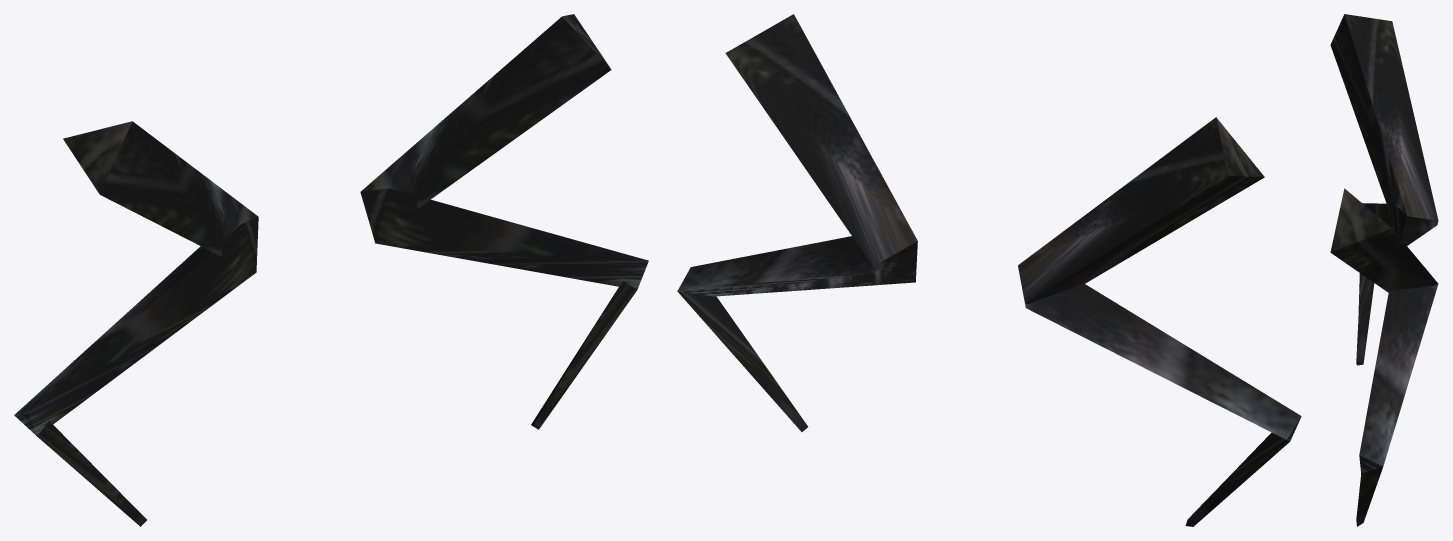
The model's file is isopod_legs.dae.
3 renders of one model, left to right at view 1: azimuth 30°, elevation 25°; view 2: azimuth 150°, elevation 25°; view 3: azimuth 270°, elevation 25°, orthographic. The views are drawn at different scales.
Parts seen in each view (by area): view 1: leg_end_L; view 2: leg_end_L; view 3: leg_end_L.
Boxes of the visible parts, <box> form: leg_end_L: <box>14,14,648,526</box>; leg_end_L: <box>677,14,1301,526</box>; leg_end_L: <box>1330,14,1438,526</box>.
Bounding box in the file's own units: 10.45 × 1.89 × 6.67.
1 material, 1 textured.
